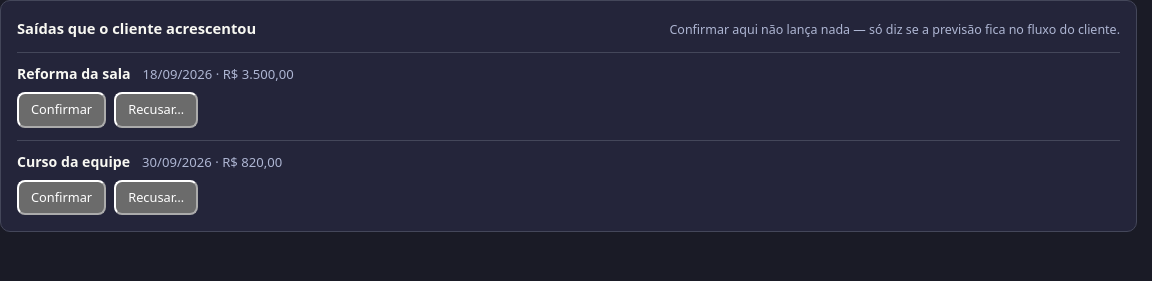
⚠⚠ decidir › ⚠⚠ a frase do SERVIDOR vence — ela distingue 'já decidida' de 'não existe'
Click the button "Confirmar" below "Reforma da sala" at [62, 110], box [17,92,106,128]
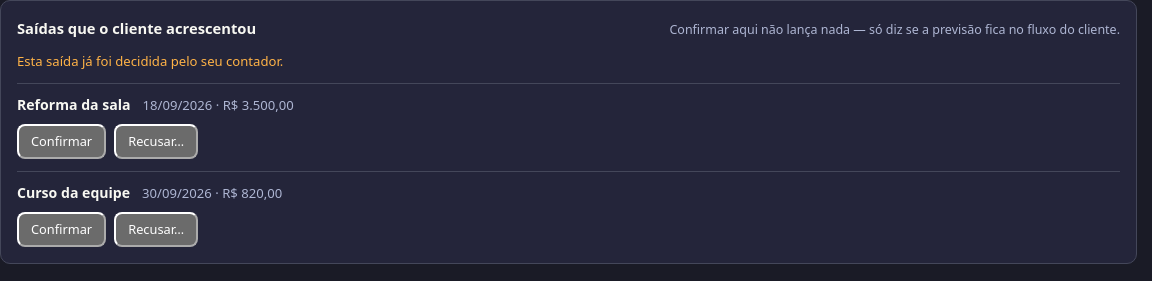
Now the text "Esta saída já foi decidida pelo seu contador." is shown, box [17,52,283,70]
